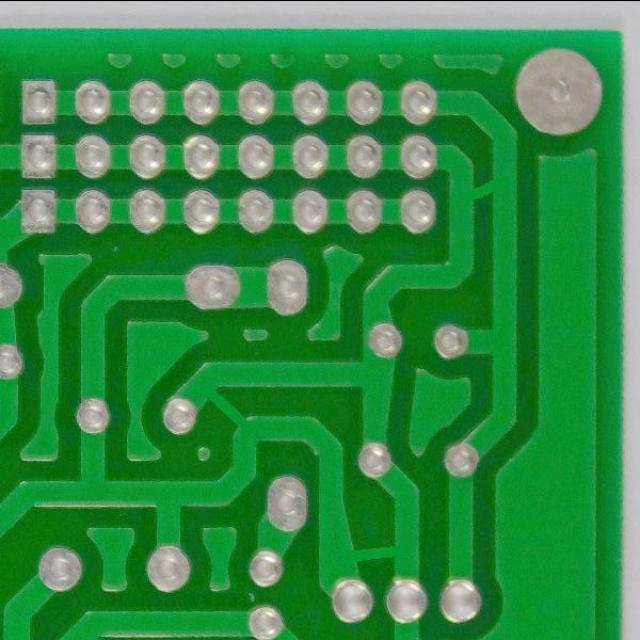short: (189, 373, 253, 452), (339, 518, 412, 582), (453, 163, 518, 222)
